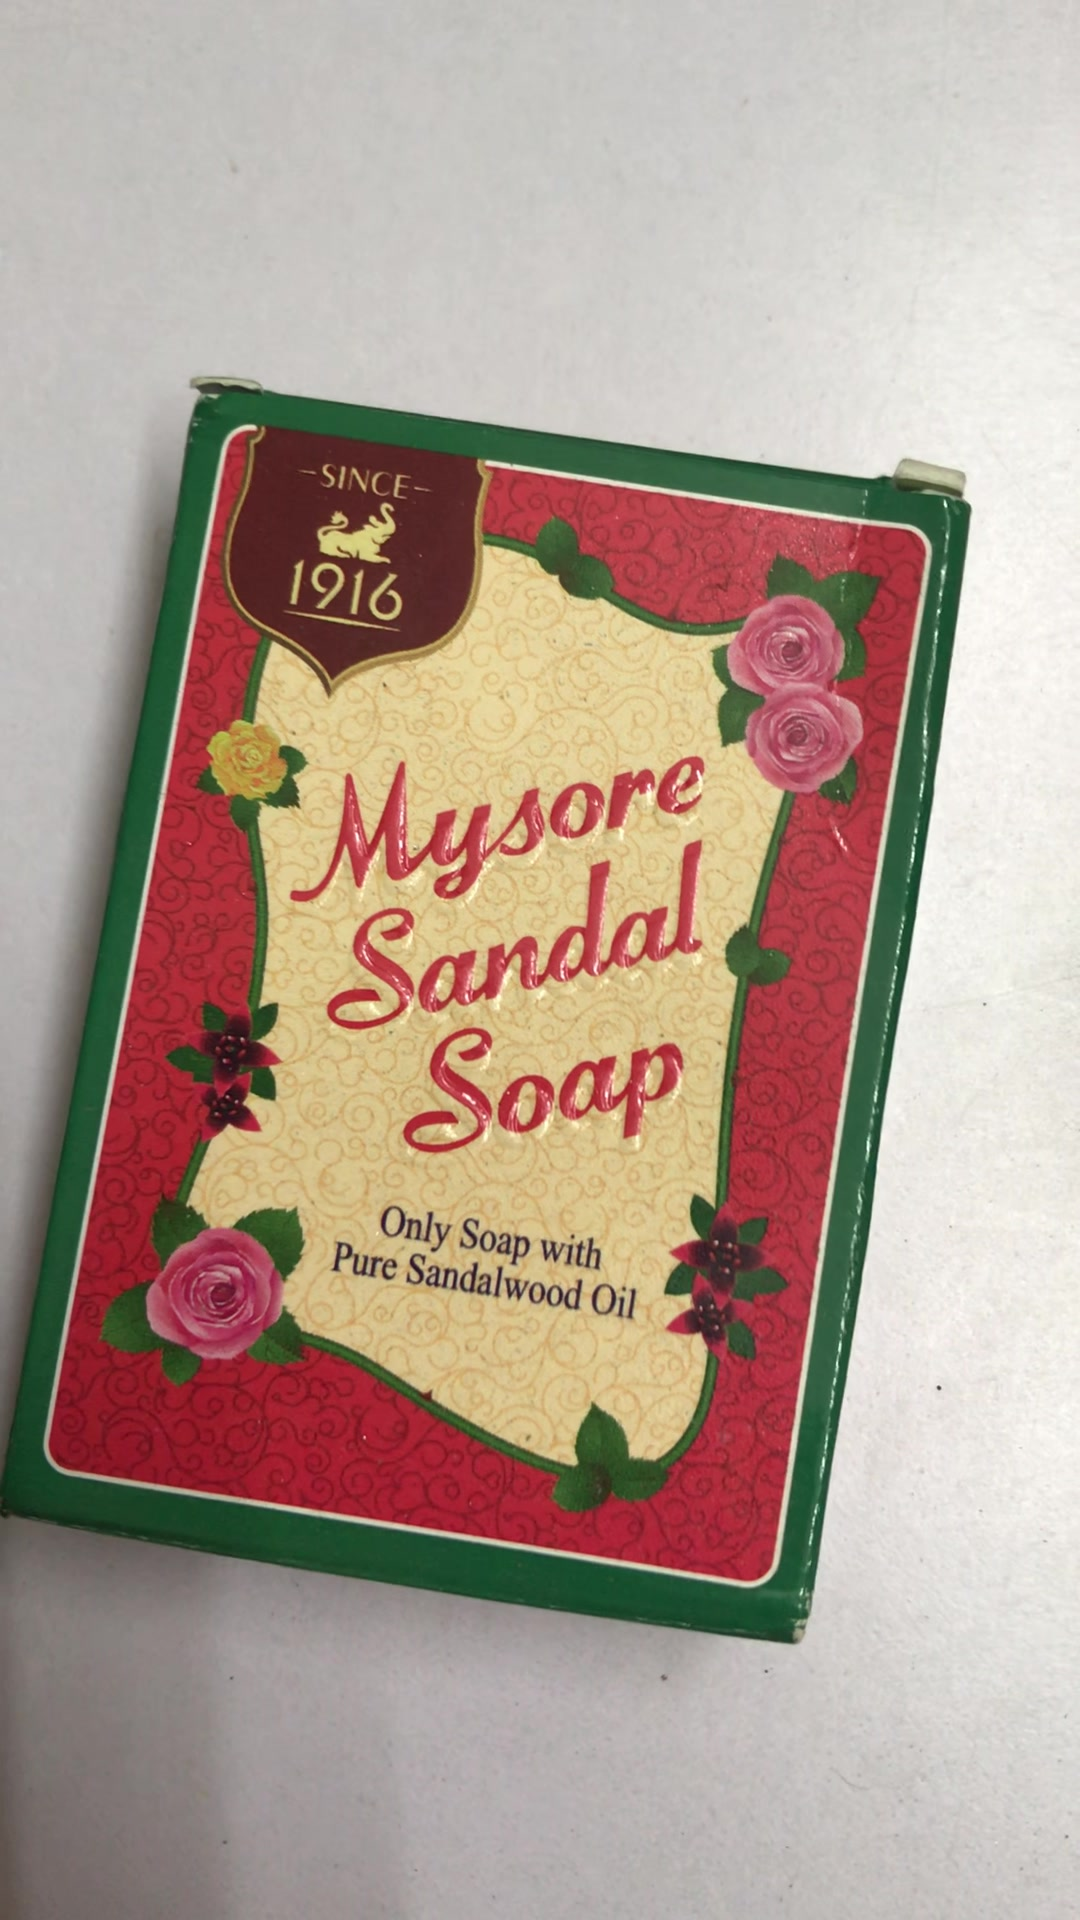mysore sandal soap: (11, 378, 978, 1638)
